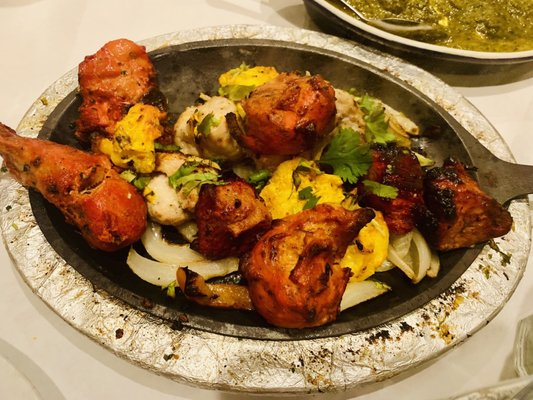curry: (1, 2, 533, 400)
sandwich: (340, 0, 533, 54)
